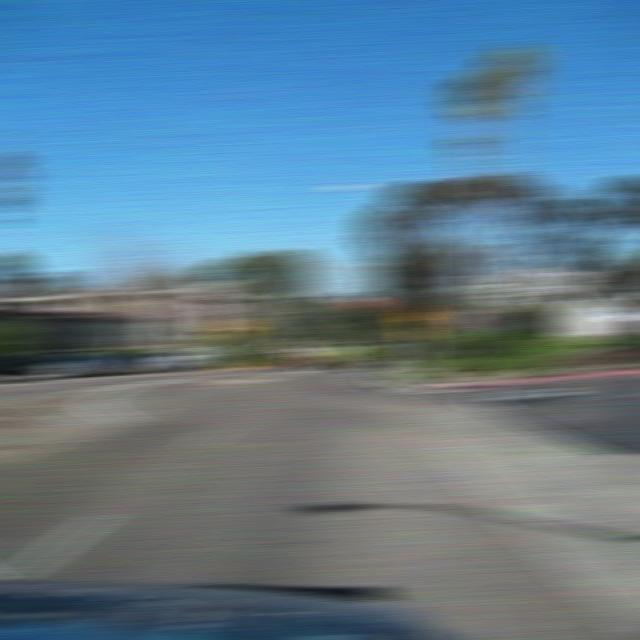stop_sign: (449, 307, 479, 332)
